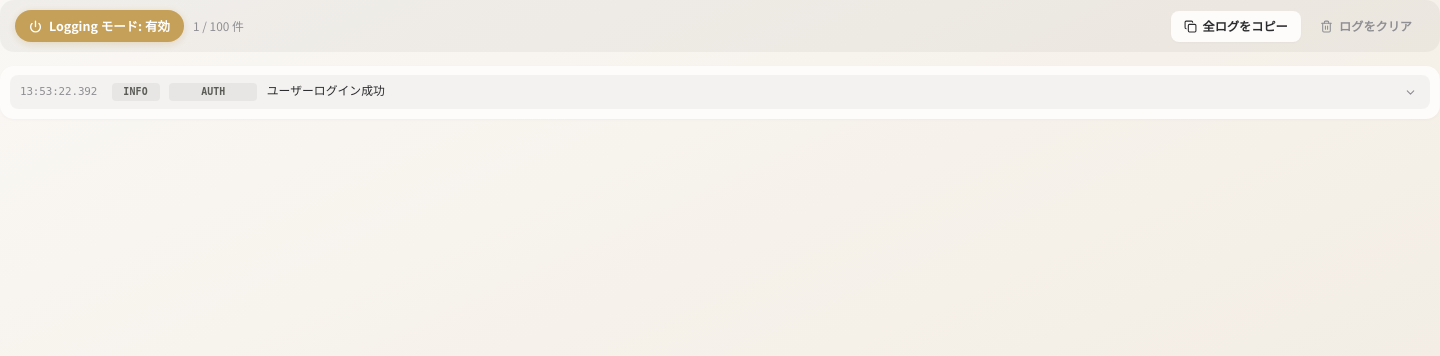
Test: システム保守・診断コンソール (System Maintenance) › LogTracerTab › ログエントリが一覧表示され、AI用コピーができること
The image size is (1440, 356).
Check: the text "ユーザーログイン成功" is shown, box [267, 84, 385, 101]
Check: the text "AUTH" is shown, box [169, 83, 257, 101]
// AI解析用コピーボタン
Click the button "全ログをコピー" at (1236, 26), box [1171, 11, 1300, 42]
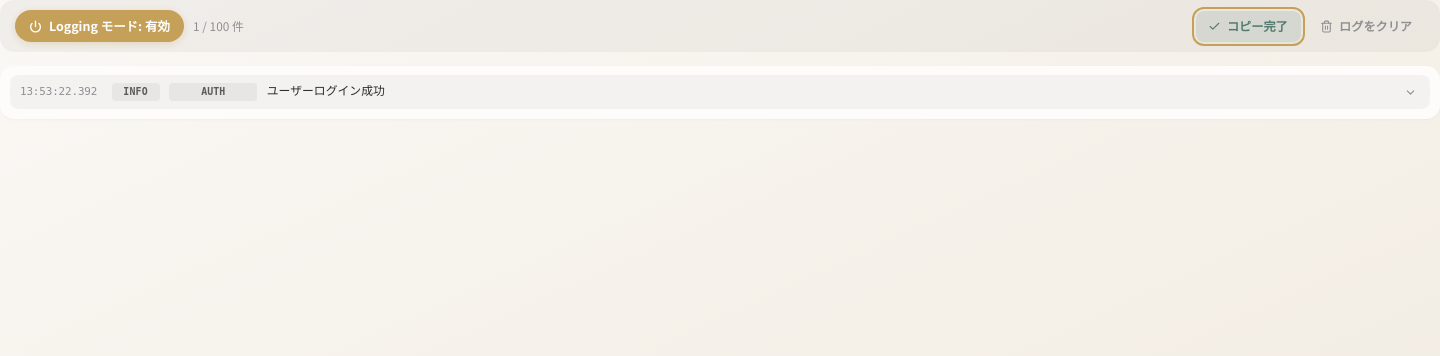
Check: the text "コピー完了" is shown, box [1227, 17, 1288, 35]
